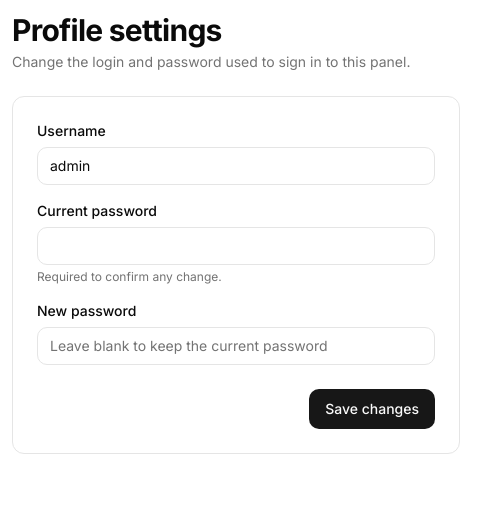
it: ProfileSettings › refuses to submit when nothing changed
Expected: the field labelled "Username" is shown, x1=37 y1=147 x2=435 y2=185
In the password field labelled "Current password": coordinates (236, 246) x1=37 y1=227 x2=435 y2=265, type "secret"
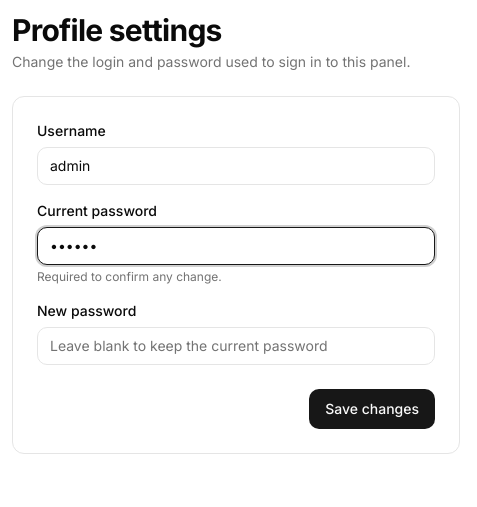
Click the button "Save changes": coordinates (372, 409) x1=309 y1=389 x2=435 y2=429
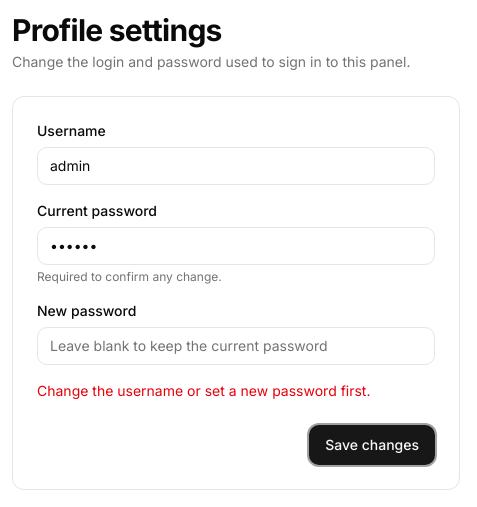
Result: the text "Change the username or set a new password first." is shown at x1=37 y1=382 x2=370 y2=399
